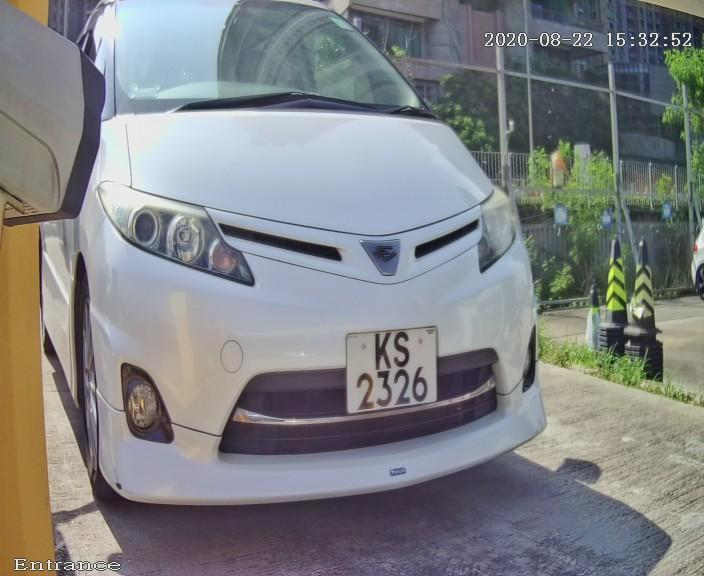Car: (32, 1, 585, 551)
License Plate: (337, 317, 450, 427)
